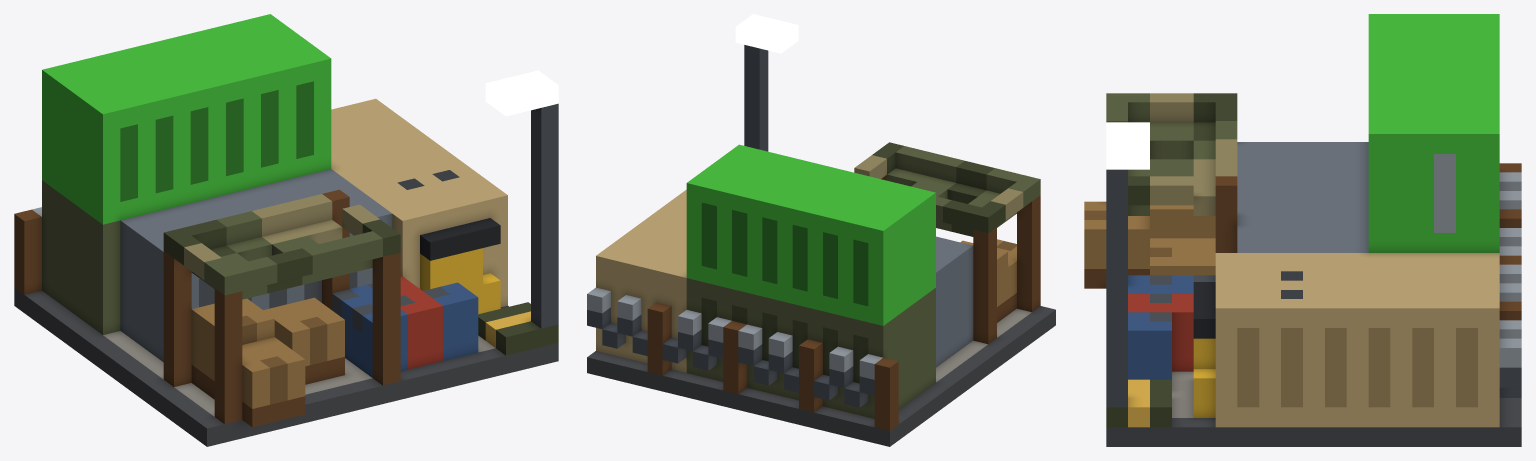
The model's file is cm_depot_3.glb.
3 views of the same model, side by side, from view 1: azimuth 30°, elevation 25°; view 2: azimuth 150°, elevation 25°; view 3: azimuth 270°, elevation 25° (orthographic). The views are drawn at different scales.
Parts seen in each view (by area): view 1: cm_depot_3_body; view 2: cm_depot_3_body; view 3: cm_depot_3_body.
Part boxes in pixels (left/top/right/bottom): cm_depot_3_body: left=14, top=14, right=558, bottom=446; cm_depot_3_body: left=587, top=14, right=1055, bottom=446; cm_depot_3_body: left=1084, top=14, right=1521, bottom=446.
Size of the model in its own units: 1.25 by 0.9375 by 1.25.
1 material, 1 textured.
